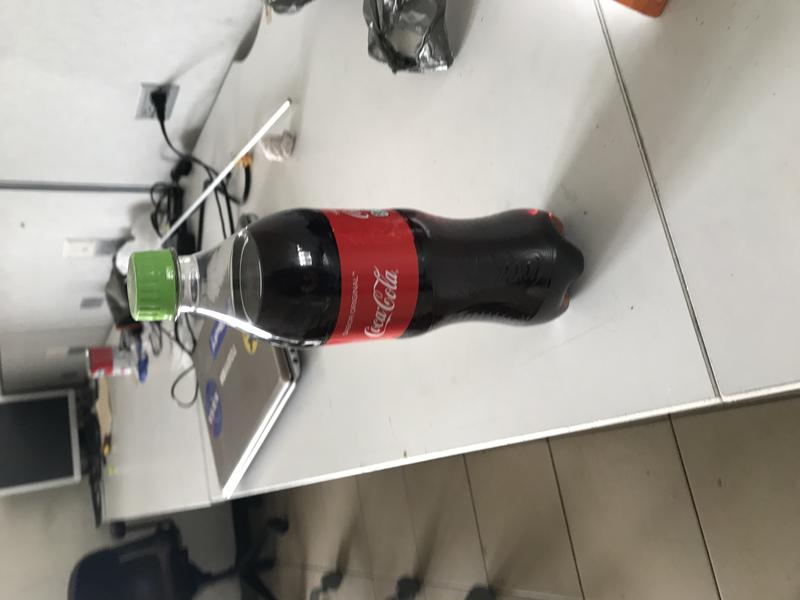coca_cola: (127, 208, 585, 345)
